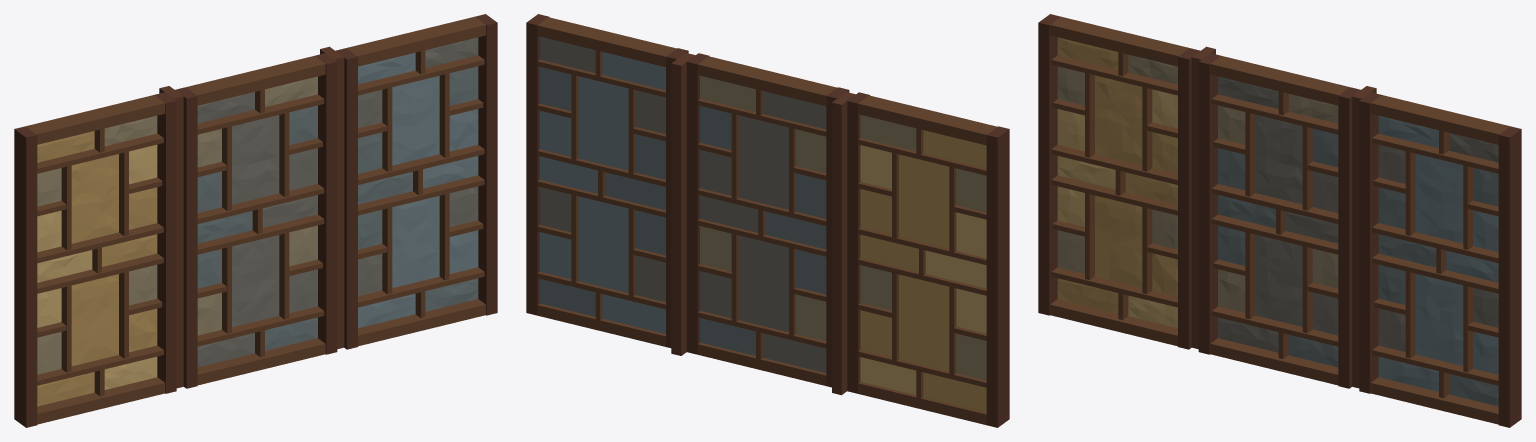
File: pudong-qingxi-teahouse-courtyard-window-screens-lod.glb
3 views of the same model, side by side, from view 1: azimuth 30°, elevation 25°; view 2: azimuth 150°, elevation 25°; view 3: azimuth 330°, elevation 25° (orthographic).
Visible parts, largest first — view 1: 清溪茶馆内院三联木格压花玻璃窗; view 2: 清溪茶馆内院三联木格压花玻璃窗; view 3: 清溪茶馆内院三联木格压花玻璃窗.
Part boxes in pixels (x1=…): 清溪茶馆内院三联木格压花玻璃窗: x1=14, y1=14, x2=497, y2=427; 清溪茶馆内院三联木格压花玻璃窗: x1=526, y1=14, x2=1009, y2=427; 清溪茶馆内院三联木格压花玻璃窗: x1=1038, y1=14, x2=1521, y2=427.
Size of the model in its own units: 1.63 by 0.96 by 0.104.
